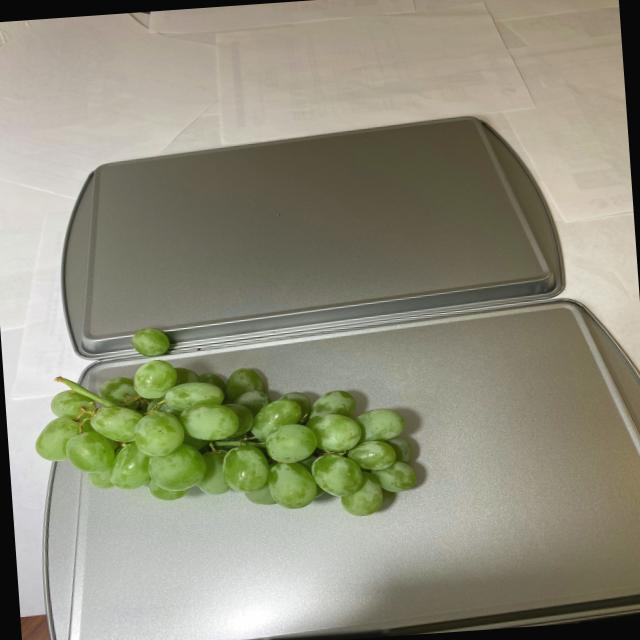grapes: (29, 346, 420, 534), (129, 324, 171, 360)
